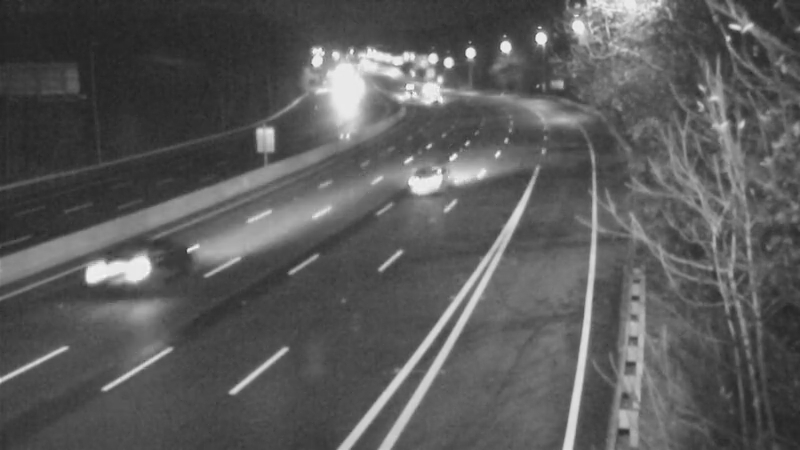vehicle: (381, 142, 461, 222), (79, 226, 159, 306), (376, 67, 426, 117), (407, 78, 457, 128)
